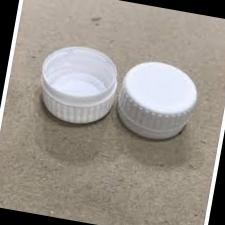Plastik: (116, 60, 197, 140), (39, 44, 118, 125)
